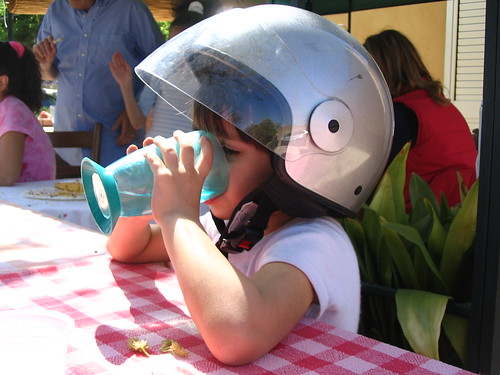helmet: (175, 3, 402, 218)
